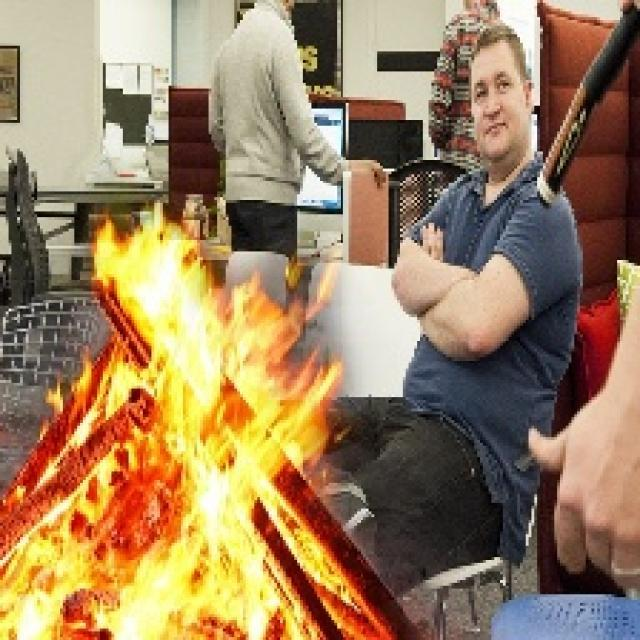Fire: (0, 219, 350, 640)
